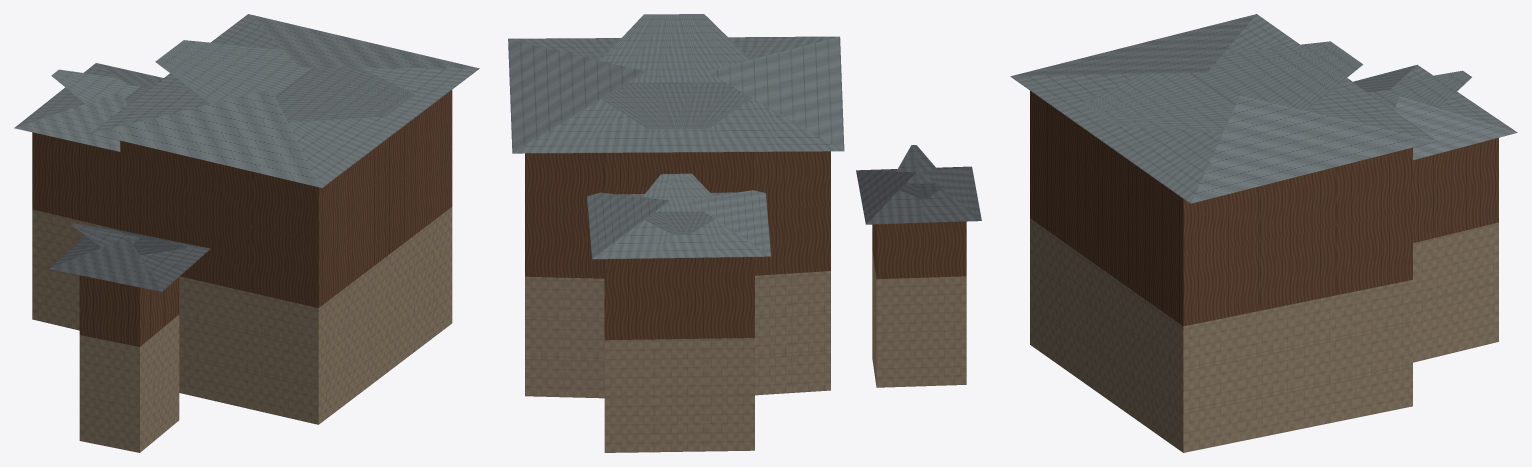
File: bld_c23_30_388.gltf
3 views of the same model, side by side, from view 1: azimuth 30°, elevation 25°; view 2: azimuth 150°, elevation 25°; view 3: azimuth 270°, elevation 25° (orthographic). The views are drawn at different scales.
Parts seen in each view (by area): view 1: bld_c23_30_388; view 2: bld_c23_30_388; view 3: bld_c23_30_388.
Boxes of the visible parts, x1,y1,x2,y2 form: bld_c23_30_388: (14,14,479,452); bld_c23_30_388: (508,14,981,452); bld_c23_30_388: (1010,14,1517,452).
Size of the model in its own units: 20.45 by 12 by 18.55.
4 materials, 4 textured.
